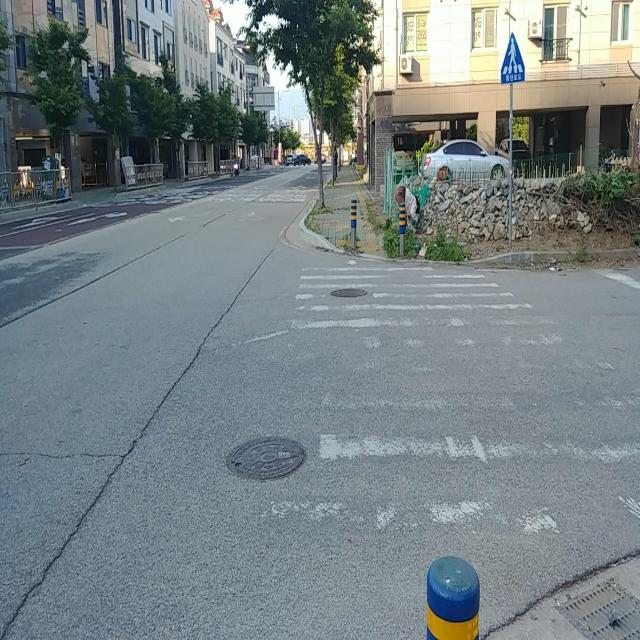횡단보도: (258, 256, 640, 538)
